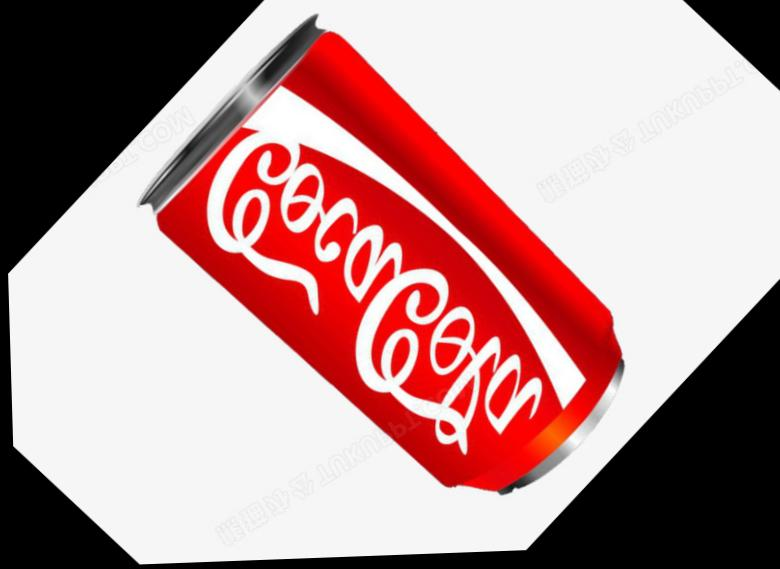metal: (142, 21, 622, 493)
